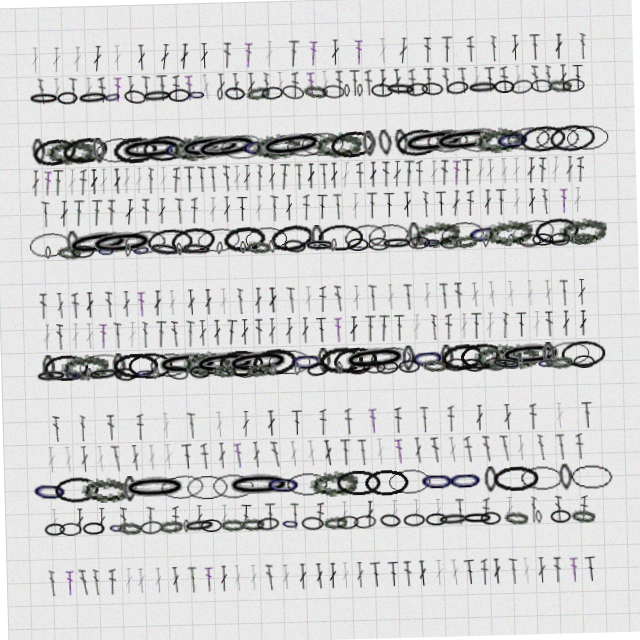chain: (198, 128, 265, 162), (263, 128, 330, 161), (67, 221, 134, 254), (405, 129, 472, 161), (182, 129, 248, 160), (437, 129, 503, 160), (341, 345, 407, 376), (123, 130, 189, 160), (91, 223, 157, 253), (191, 346, 257, 376), (224, 346, 290, 376), (154, 346, 220, 375), (497, 346, 563, 375), (118, 470, 183, 497), (222, 470, 287, 497), (413, 221, 464, 254), (511, 221, 560, 255), (271, 221, 318, 254), (174, 129, 224, 160), (478, 129, 528, 160), (486, 222, 536, 253), (560, 222, 610, 253), (36, 129, 83, 161), (256, 130, 306, 160), (66, 129, 113, 160), (172, 222, 219, 253), (289, 129, 335, 160), (344, 222, 390, 253), (59, 346, 108, 375), (181, 346, 230, 375), (305, 469, 354, 498), (524, 130, 571, 160), (331, 346, 378, 376), (334, 130, 380, 160), (400, 130, 446, 160), (50, 131, 99, 159), (318, 131, 367, 159), (472, 347, 521, 375), (441, 223, 488, 252), (76, 346, 123, 375), (99, 130, 145, 159), (510, 130, 556, 159), (554, 130, 600, 159), (29, 223, 75, 252), (198, 223, 244, 252), (368, 223, 414, 252), (536, 223, 582, 252), (250, 346, 296, 375), (367, 346, 413, 375), (439, 346, 485, 375), (155, 469, 201, 498), (147, 130, 192, 159), (462, 130, 507, 159), (224, 131, 270, 159), (539, 131, 585, 159), (149, 224, 195, 252), (225, 223, 269, 252), (117, 131, 162, 159), (490, 348, 538, 374), (77, 471, 125, 497), (430, 131, 475, 158), (125, 224, 170, 251), (246, 224, 291, 251), (560, 347, 605, 374), (50, 470, 95, 497), (383, 470, 428, 497), (305, 131, 349, 158), (570, 131, 614, 158), (147, 347, 191, 374), (318, 347, 362, 374), (459, 347, 503, 374), (545, 347, 589, 374), (207, 470, 251, 497), (515, 470, 559, 497), (565, 470, 609, 497), (320, 225, 365, 251), (112, 348, 157, 374), (127, 348, 172, 374), (218, 348, 263, 374), (266, 348, 311, 374), (489, 471, 534, 497), (43, 348, 87, 374), (181, 471, 225, 497), (281, 471, 325, 497), (332, 471, 376, 497), (360, 471, 404, 497), (166, 130, 204, 160), (468, 223, 506, 253), (244, 131, 282, 159), (499, 131, 536, 159), (408, 347, 445, 375), (27, 470, 64, 498), (261, 470, 297, 497), (288, 348, 324, 374), (415, 471, 451, 497), (443, 471, 479, 497), (150, 237, 183, 254), (182, 238, 215, 254), (489, 361, 522, 377), (391, 84, 423, 99), (86, 361, 118, 376), (178, 515, 210, 530), (398, 131, 415, 158), (83, 85, 115, 99), (147, 85, 179, 99), (473, 85, 505, 99), (34, 362, 66, 376), (432, 516, 464, 530), (251, 83, 277, 100), (382, 131, 398, 158), (164, 360, 188, 378), (34, 85, 66, 98), (306, 239, 338, 252), (383, 239, 415, 252), (456, 516, 488, 529), (287, 83, 311, 100), (36, 131, 51, 158), (68, 224, 83, 251), (554, 470, 569, 497), (96, 132, 111, 158), (129, 84, 153, 100), (516, 84, 540, 100), (309, 84, 334, 99), (455, 238, 480, 253), (244, 361, 269, 376), (547, 361, 572, 376), (153, 515, 178, 530), (231, 361, 254, 377), (305, 361, 328, 377), (347, 361, 370, 377), (460, 361, 483, 377), (367, 132, 381, 158), (410, 225, 424, 251), (111, 348, 125, 374), (316, 348, 330, 374), (439, 348, 453, 374), (541, 348, 555, 374), (452, 84, 475, 99), (285, 238, 308, 253), (251, 515, 274, 530), (313, 225, 326, 251), (41, 348, 54, 374), (401, 348, 414, 374), (119, 471, 132, 497), (480, 471, 493, 497), (554, 85, 578, 99), (59, 239, 83, 253), (112, 516, 136, 530), (318, 516, 342, 530), (499, 516, 523, 530), (566, 516, 590, 530), (230, 84, 252, 99), (374, 515, 396, 530), (267, 85, 290, 99), (328, 85, 351, 99), (427, 85, 450, 99), (331, 516, 354, 530), (348, 516, 371, 530), (248, 239, 272, 252), (571, 239, 595, 252), (211, 362, 235, 375), (421, 362, 445, 375), (215, 516, 239, 529), (235, 516, 259, 529), (377, 85, 399, 99), (412, 85, 434, 99), (537, 85, 559, 99), (569, 85, 591, 99), (442, 239, 464, 253), (521, 239, 543, 253), (113, 362, 135, 376), (375, 362, 397, 376), (483, 362, 505, 376), (135, 516, 157, 530), (296, 516, 318, 530), (188, 362, 209, 376), (174, 85, 196, 98), (74, 239, 96, 252), (349, 239, 371, 252), (370, 239, 392, 252), (410, 239, 432, 252), (534, 239, 556, 252), (551, 239, 573, 252), (362, 362, 384, 375), (397, 362, 419, 375), (444, 362, 466, 375), (572, 362, 594, 375), (54, 516, 76, 529), (77, 516, 99, 529), (195, 516, 217, 529), (398, 516, 420, 529), (420, 516, 442, 529), (109, 84, 128, 99), (134, 238, 153, 253), (63, 85, 84, 98), (500, 85, 521, 98), (39, 516, 60, 529), (475, 516, 496, 529), (545, 516, 566, 529), (63, 362, 81, 376), (536, 362, 554, 376), (276, 516, 294, 530), (194, 85, 212, 98), (99, 239, 117, 252), (425, 239, 443, 252), (134, 362, 152, 375), (103, 516, 121, 529), (270, 239, 278, 252), (178, 239, 185, 252), (218, 239, 225, 252), (332, 239, 339, 252), (509, 239, 516, 252), (84, 362, 91, 375), (151, 362, 158, 375), (335, 362, 342, 375), (516, 362, 523, 375), (530, 516, 537, 529), (223, 85, 229, 98), (350, 85, 356, 98), (363, 85, 369, 98), (47, 239, 53, 252), (127, 239, 133, 252), (242, 239, 248, 252), (485, 239, 491, 252), (269, 362, 275, 375), (293, 362, 299, 375), (178, 516, 184, 529)
double: (282, 163, 295, 189), (225, 317, 238, 343), (363, 563, 376, 589), (457, 563, 470, 589), (578, 563, 591, 589), (107, 439, 119, 466), (496, 439, 508, 466), (166, 40, 178, 66), (295, 40, 307, 66), (163, 71, 175, 97), (56, 163, 68, 189), (407, 163, 419, 189), (76, 194, 88, 220), (94, 194, 106, 220), (155, 317, 167, 343), (378, 317, 390, 343), (579, 409, 591, 435), (178, 440, 190, 466), (319, 440, 331, 466), (235, 502, 247, 528), (381, 563, 393, 589), (99, 40, 110, 66), (186, 40, 197, 66), (405, 40, 416, 66), (449, 40, 460, 66), (537, 40, 548, 66), (207, 71, 218, 97), (356, 71, 367, 97), (430, 71, 441, 97), (491, 71, 502, 97), (579, 71, 590, 97), (188, 163, 199, 189), (344, 163, 355, 189), (466, 163, 477, 189), (479, 163, 490, 189), (554, 163, 565, 189), (127, 194, 138, 220), (240, 194, 251, 220), (320, 194, 331, 220), (370, 194, 381, 220), (387, 194, 398, 220), (439, 194, 450, 220), (499, 194, 510, 220), (316, 317, 327, 343), (365, 317, 376, 343), (394, 317, 405, 343), (471, 317, 482, 343), (516, 317, 527, 343), (289, 409, 300, 435), (285, 440, 296, 466), (337, 440, 348, 466), (427, 440, 438, 466), (444, 440, 455, 466), (460, 440, 471, 466), (552, 440, 563, 466), (260, 502, 271, 528), (443, 563, 454, 589), (327, 71, 337, 97), (399, 71, 409, 97), (464, 71, 474, 97), (71, 163, 81, 189), (396, 163, 406, 189), (530, 163, 540, 189), (62, 194, 72, 220), (454, 194, 464, 220), (56, 286, 66, 312), (187, 286, 197, 312), (287, 286, 297, 312), (471, 286, 481, 312), (544, 286, 554, 312), (127, 317, 137, 343), (185, 317, 195, 343), (485, 317, 495, 343), (184, 409, 194, 435), (500, 409, 510, 435), (552, 409, 562, 435), (43, 440, 53, 466), (60, 440, 70, 466), (76, 440, 86, 466), (92, 440, 102, 466), (127, 440, 137, 466), (160, 440, 170, 466), (230, 440, 240, 466), (248, 440, 258, 466), (267, 440, 277, 466), (303, 440, 313, 466), (354, 440, 364, 466), (372, 440, 382, 466), (391, 440, 401, 466), (410, 440, 420, 466), (140, 502, 150, 528), (384, 502, 394, 528), (72, 563, 82, 589), (164, 563, 174, 589), (226, 563, 236, 589), (308, 563, 318, 589), (334, 563, 344, 589), (411, 563, 421, 589), (502, 563, 512, 589), (515, 563, 525, 589), (530, 563, 540, 589), (59, 40, 68, 66), (80, 40, 89, 66), (120, 40, 129, 66), (144, 40, 153, 66), (207, 40, 216, 66), (230, 40, 239, 66), (251, 40, 260, 66), (272, 40, 281, 66), (316, 40, 325, 66), (338, 40, 347, 66), (518, 40, 527, 66), (59, 71, 68, 97), (75, 71, 84, 97), (104, 71, 113, 97), (148, 71, 157, 97), (191, 71, 200, 97), (223, 71, 232, 97), (238, 71, 247, 97), (253, 71, 262, 97), (282, 71, 291, 97), (313, 71, 322, 97), (520, 71, 529, 97), (565, 71, 574, 97), (35, 163, 44, 189), (47, 163, 56, 189), (103, 163, 112, 189), (126, 163, 135, 189), (138, 163, 147, 189), (201, 163, 210, 189), (212, 163, 221, 189), (298, 163, 307, 189), (323, 163, 332, 189), (444, 163, 453, 189), (456, 163, 465, 189), (490, 163, 499, 189), (504, 163, 513, 189), (516, 163, 525, 189), (542, 163, 551, 189), (569, 163, 578, 189), (44, 194, 53, 220), (110, 194, 119, 220), (178, 194, 187, 220), (273, 194, 282, 220), (336, 194, 345, 220), (354, 194, 363, 220), (406, 194, 415, 220), (576, 194, 585, 220), (86, 286, 95, 312), (269, 286, 278, 312), (369, 286, 378, 312), (387, 286, 396, 312), (404, 286, 413, 312), (440, 286, 449, 312), (455, 286, 464, 312), (488, 286, 497, 312), (507, 286, 516, 312), (560, 286, 569, 312), (578, 286, 587, 312), (42, 317, 51, 343), (85, 317, 94, 343), (113, 317, 122, 343), (198, 317, 207, 343), (240, 317, 249, 343), (349, 317, 358, 343), (412, 317, 421, 343), (532, 317, 541, 343), (545, 317, 554, 343), (104, 409, 113, 435), (159, 409, 168, 435), (212, 409, 221, 435), (264, 409, 273, 435), (366, 409, 375, 435), (417, 409, 426, 435), (144, 440, 153, 466), (197, 440, 206, 466), (214, 440, 223, 466), (479, 440, 488, 466), (513, 440, 522, 466), (572, 440, 581, 466), (70, 502, 79, 528), (92, 502, 101, 528), (285, 502, 294, 528), (360, 502, 369, 528), (450, 502, 459, 528), (500, 502, 509, 528), (130, 563, 139, 589), (147, 563, 156, 589), (181, 563, 190, 589), (275, 563, 284, 589), (349, 563, 358, 589), (397, 563, 406, 589), (428, 563, 437, 589), (486, 563, 495, 589), (563, 563, 572, 589), (38, 40, 46, 66), (362, 40, 370, 66), (386, 40, 394, 66), (431, 40, 439, 66), (474, 40, 482, 66), (562, 40, 570, 66), (44, 71, 52, 97), (91, 71, 99, 97), (120, 71, 128, 97), (133, 71, 141, 97), (342, 71, 350, 97), (371, 71, 379, 97), (385, 71, 393, 97), (415, 71, 423, 97), (479, 71, 487, 97), (507, 71, 515, 97), (538, 71, 546, 97), (83, 163, 91, 189), (94, 163, 102, 189), (117, 163, 125, 189), (163, 163, 171, 189), (176, 163, 184, 189), (237, 163, 245, 189), (247, 163, 255, 189), (272, 163, 280, 189), (311, 163, 319, 189), (334, 163, 342, 189), (360, 163, 368, 189), (373, 163, 381, 189), (386, 163, 394, 189), (434, 163, 442, 189), (145, 194, 153, 220), (161, 194, 169, 220), (212, 194, 220, 220), (226, 194, 234, 220), (258, 194, 266, 220), (288, 194, 296, 220), (487, 194, 495, 220), (516, 194, 524, 220), (531, 194, 539, 220), (563, 194, 571, 220), (40, 286, 48, 312), (72, 286, 80, 312), (123, 286, 131, 312), (138, 286, 146, 312), (154, 286, 162, 312), (169, 286, 177, 312), (205, 286, 213, 312), (220, 286, 228, 312), (255, 286, 263, 312), (305, 286, 313, 312), (335, 286, 343, 312), (353, 286, 361, 312), (424, 286, 432, 312), (527, 286, 535, 312), (71, 317, 79, 343), (99, 317, 107, 343), (213, 317, 221, 343), (255, 317, 263, 343), (268, 317, 276, 343), (285, 317, 293, 343), (301, 317, 309, 343), (334, 317, 342, 343), (460, 317, 468, 343), (501, 317, 509, 343), (562, 317, 570, 343), (579, 317, 587, 343), (239, 409, 247, 435), (342, 409, 350, 435), (473, 409, 481, 435), (534, 440, 542, 466), (45, 502, 53, 528), (190, 502, 198, 528), (215, 502, 223, 528), (311, 502, 319, 528), (335, 502, 343, 528), (407, 502, 415, 528), (429, 502, 437, 528), (477, 502, 485, 528), (575, 502, 583, 528), (59, 563, 67, 589), (118, 563, 126, 589), (198, 563, 206, 589), (213, 563, 221, 589), (243, 563, 251, 589), (259, 563, 267, 589), (292, 563, 300, 589), (322, 563, 330, 589), (474, 563, 482, 589), (547, 563, 555, 589), (179, 71, 186, 97), (298, 71, 305, 97), (449, 71, 456, 97), (151, 163, 158, 189), (227, 163, 234, 189), (260, 163, 267, 189), (420, 163, 427, 189), (581, 163, 588, 189), (194, 194, 201, 220), (306, 194, 313, 220), (470, 194, 477, 220), (545, 194, 552, 220), (106, 286, 113, 312), (320, 286, 327, 312), (56, 317, 63, 343), (171, 317, 178, 343), (445, 317, 452, 343), (50, 409, 57, 435), (134, 409, 141, 435), (317, 409, 324, 435), (392, 409, 399, 435), (445, 409, 452, 435), (527, 409, 534, 435), (115, 502, 122, 528), (167, 502, 174, 528), (525, 502, 532, 528), (550, 502, 557, 528), (42, 563, 49, 589), (86, 563, 93, 589), (102, 563, 109, 589), (498, 40, 504, 66), (587, 40, 593, 66), (270, 71, 276, 97), (552, 71, 558, 97), (426, 194, 432, 220), (238, 286, 244, 312), (142, 317, 148, 343), (431, 317, 437, 343), (77, 409, 83, 435)
